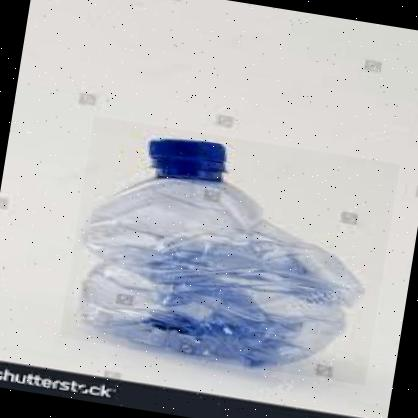bottle: (59, 116, 400, 387)
cap: (136, 126, 238, 182)
